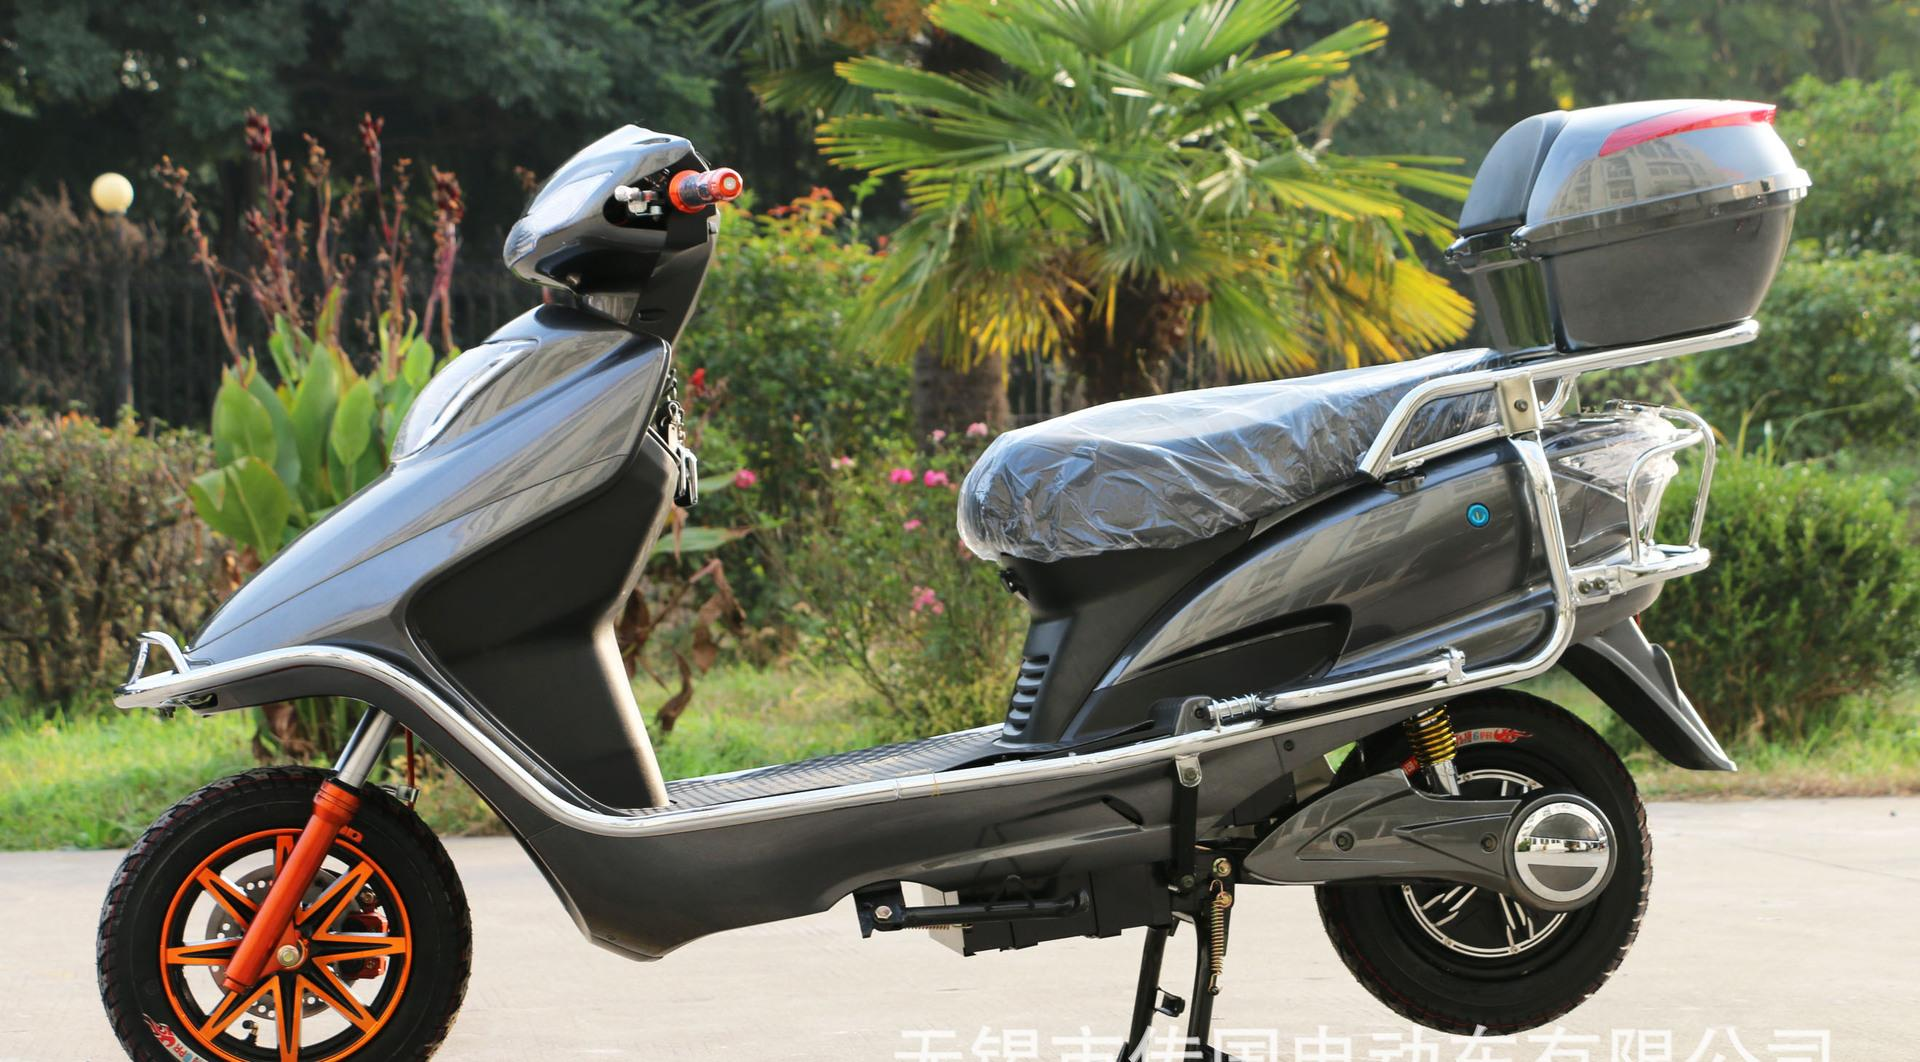电动车: (63, 82, 1857, 1062)
